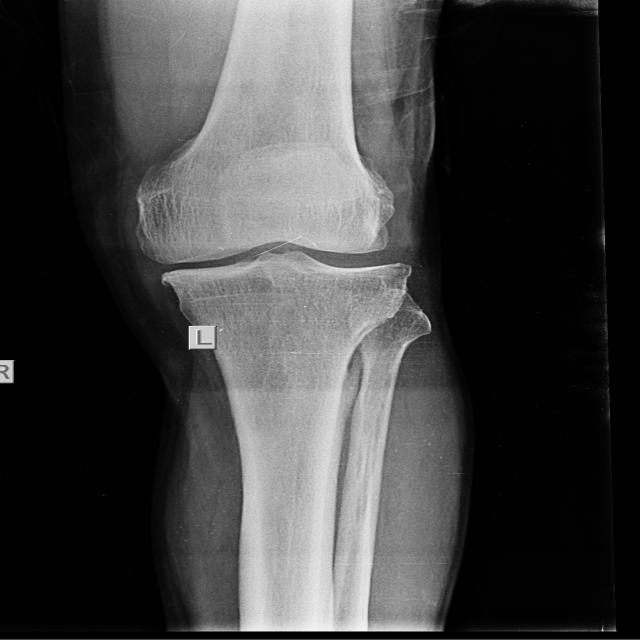osteo: (134, 147, 412, 303)
